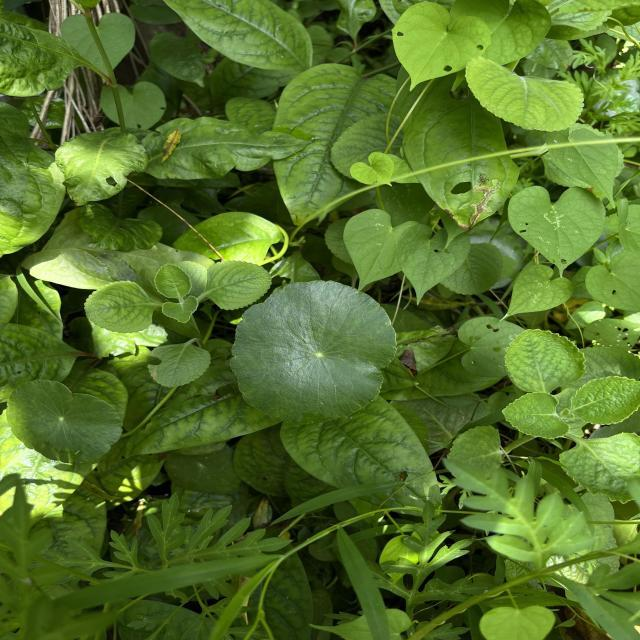Bacopa monnieri: (227, 278, 400, 427), (3, 376, 125, 466)
